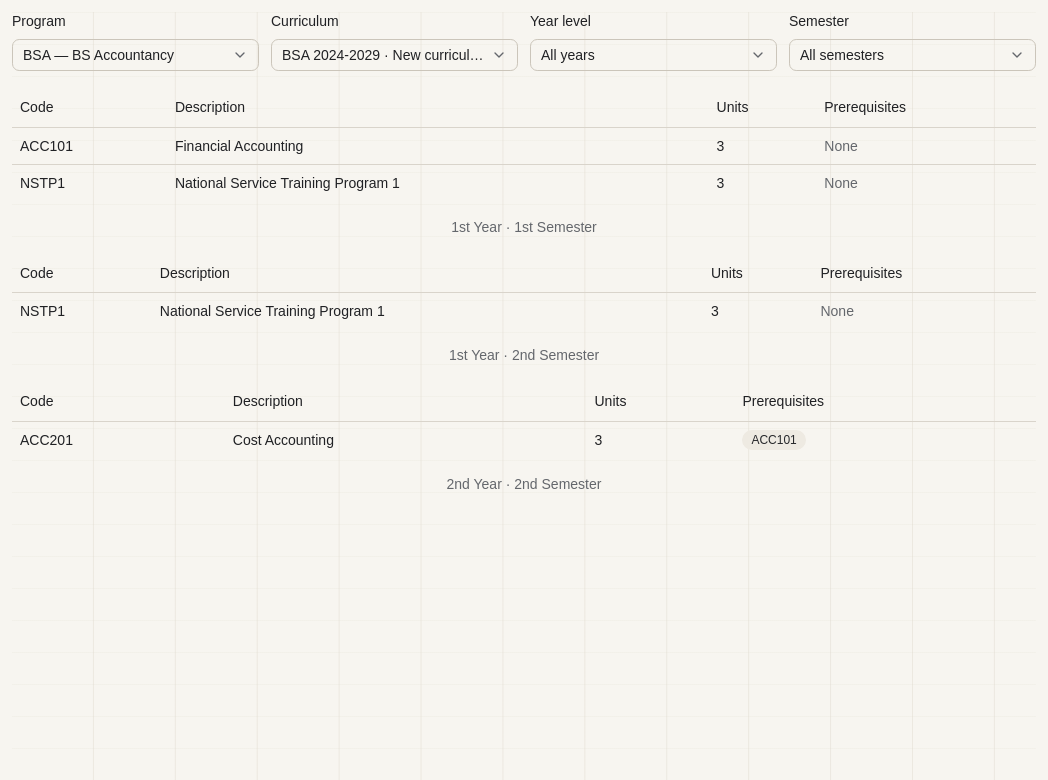
Test case: CurriculumView › resets to the newest curriculum when switching programs
Click the dropdown named "Program": point(136, 55) [12, 39, 259, 71]
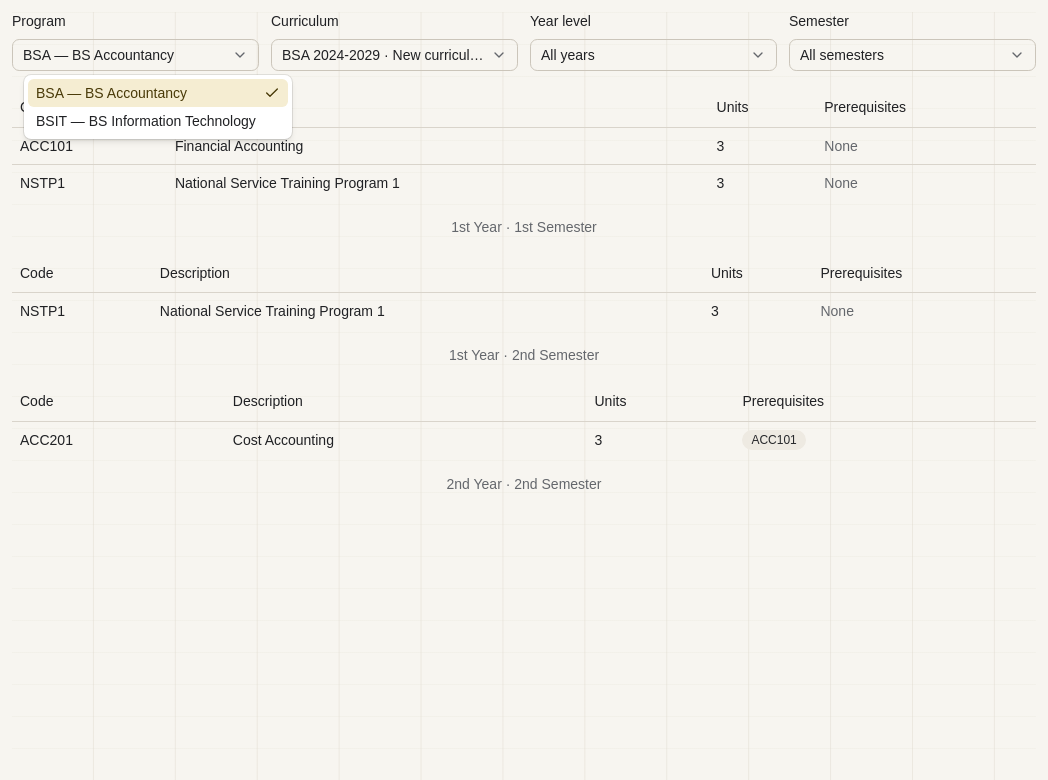
Click the option "BSIT — BS Information Technology": point(146, 121) [36, 113, 256, 129]
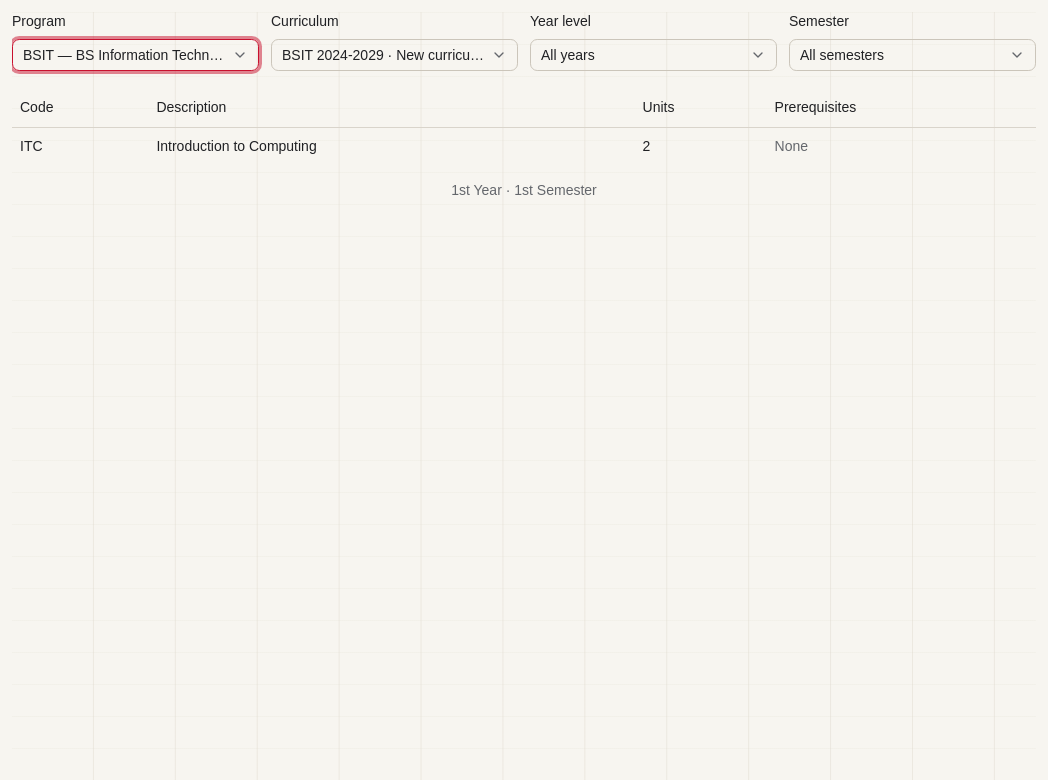
Result: the dropdown labelled "curriculum" shows "BSIT 2024-2029" at [271, 39, 518, 71]
Result: the text "ITC" is shown at [12, 127, 148, 164]
